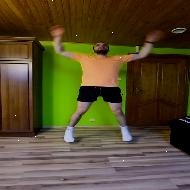jumping_jacks: (42, 18, 167, 149)
